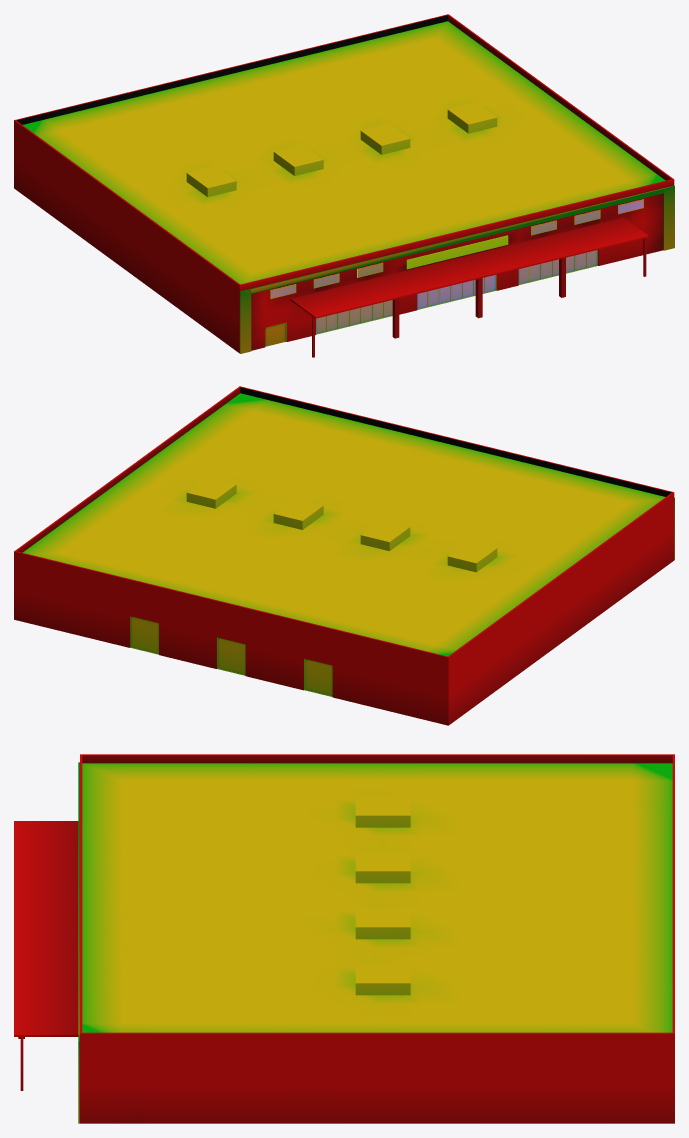
The model's file is mall.glb.
3 renders of one model, top to bottom at view 1: azimuth 30°, elevation 25°; view 2: azimuth 150°, elevation 25°; view 3: azimuth 270°, elevation 25°, orthographic. The views are drawn at different scales.
Visible parts, largest first — view 1: mall__box__LOD0; view 2: mall__box__LOD0; view 3: mall__box__LOD0.
Part boxes in pixels (x1,y1,x2,y2): mall__box__LOD0: (14,14,674,357); mall__box__LOD0: (14,386,674,725); mall__box__LOD0: (14,754,674,1123).
Size of what is drawn, in the model's own units: 60 by 9.4 by 60.
